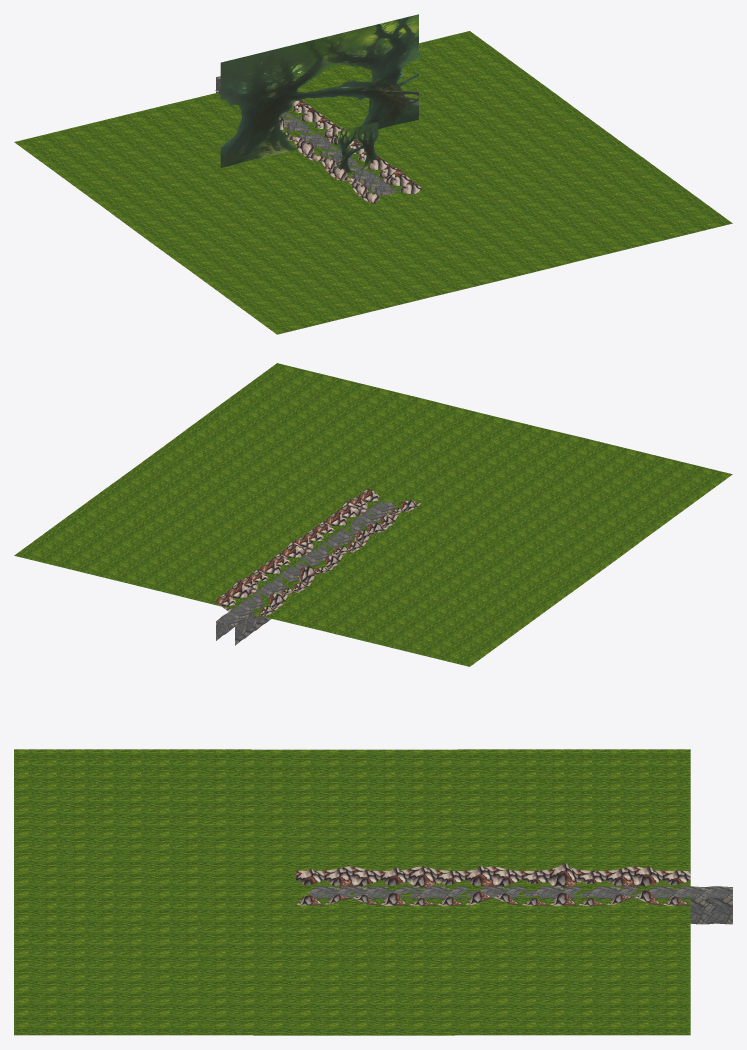
Rendered from plain.gltf.
3 renders of one model, top to bottom at view 1: azimuth 30°, elevation 25°; view 2: azimuth 150°, elevation 25°; view 3: azimuth 270°, elevation 25°, orthographic. The views are drawn at different scales.
Visible parts, largest first — view 1: grass, tree_frame_mesh2, border_2, path, tree_frame_mesh, border_1; view 2: grass, path, border_2, border_1; view 3: grass, border_1, path, border_2.
Boxes of the visible parts, left/top/right/bottom form: grass: left=14, top=31, right=732, bottom=334; tree_frame_mesh2: left=220, top=14, right=418, bottom=167; border_2: left=290, top=100, right=422, bottom=193; path: left=216, top=76, right=396, bottom=195; tree_frame_mesh: left=338, top=122, right=378, bottom=172; border_1: left=215, top=90, right=379, bottom=203; grass: left=14, top=363, right=732, bottom=666; path: left=216, top=502, right=396, bottom=645; border_2: left=214, top=488, right=379, bottom=611; border_1: left=253, top=500, right=422, bottom=618; grass: left=14, top=749, right=690, bottom=1035; border_1: left=296, top=863, right=690, bottom=887; path: left=310, top=886, right=732, bottom=924; border_2: left=296, top=890, right=690, bottom=905.
Bounding box in the file's own units: 48 × 13.2 × 51.
Materials: 5 (4 with a texture image).
